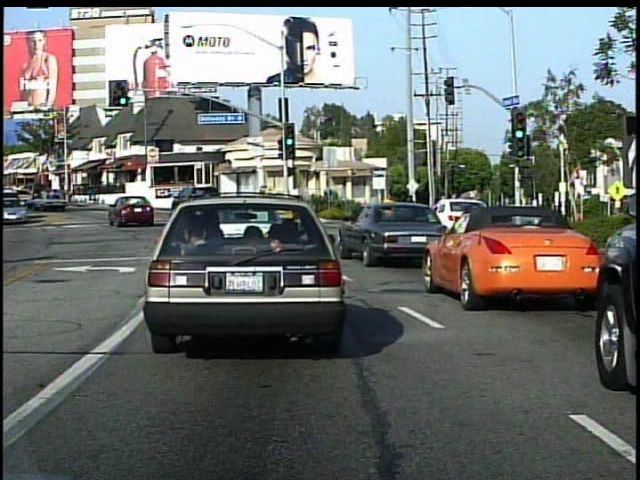person: (378, 191, 399, 230), (404, 192, 423, 232)
